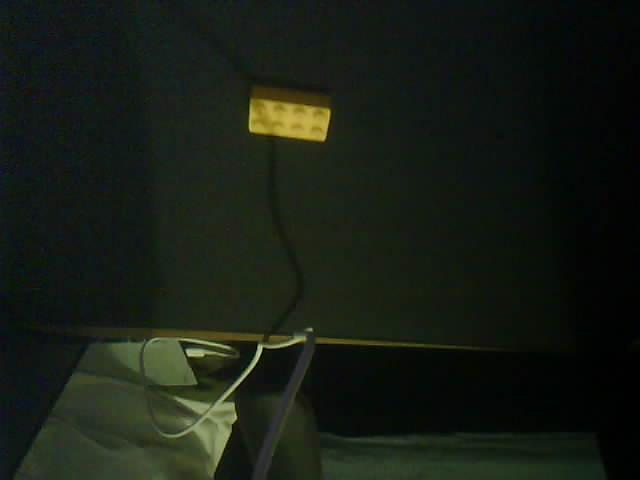lego: (248, 84, 333, 143)
